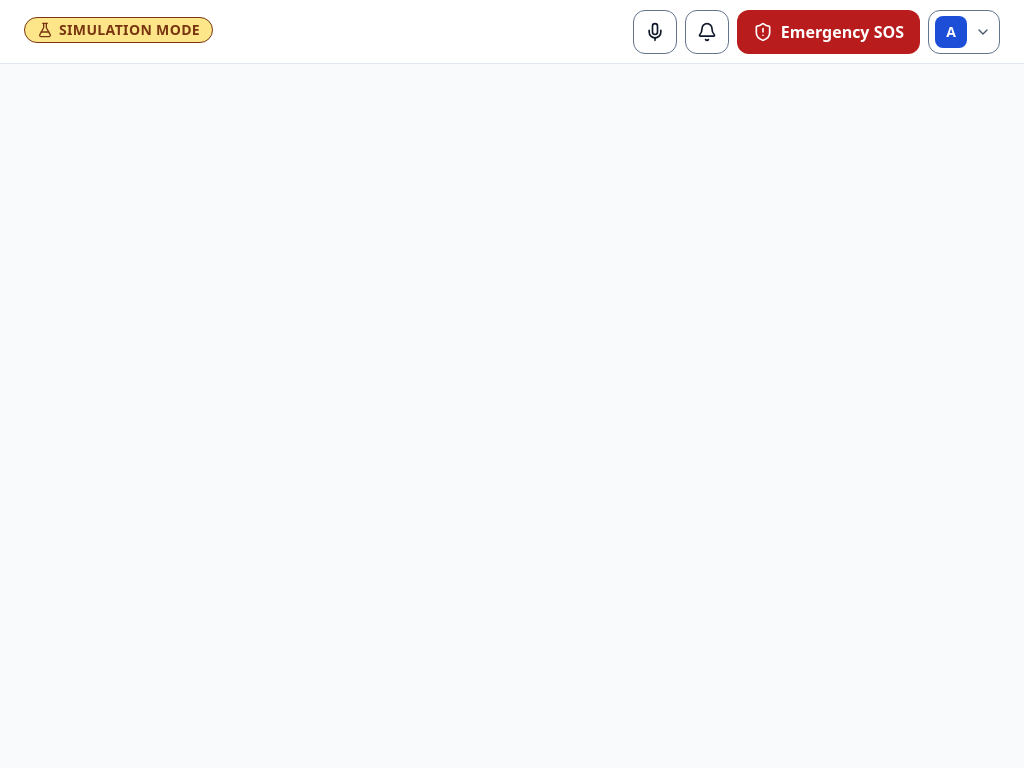
Topbar › has SOS link, voice button, bell and an account menu with Profile, Settings and Log out
Expected: the button named "Voice assistant" is shown, [633, 10, 677, 54]
Expected: the button named "notifications" is shown, [685, 10, 729, 54]
Click the button named "account menu".
click(964, 32)  # box [928, 10, 1000, 54]
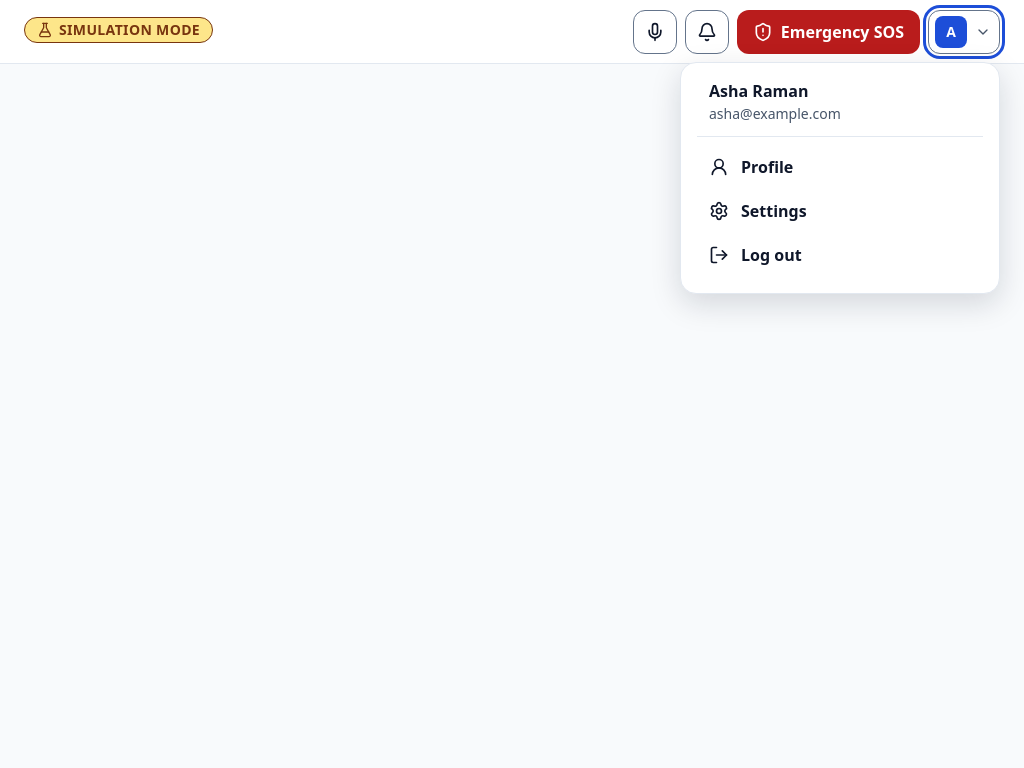
Expected: the button "Log out" is shown, [697, 233, 983, 277]
